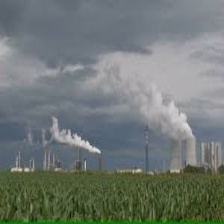smoke: (93, 40, 192, 139), (36, 126, 106, 154)
